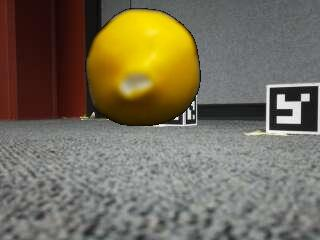lemon: (89, 10, 201, 128)
